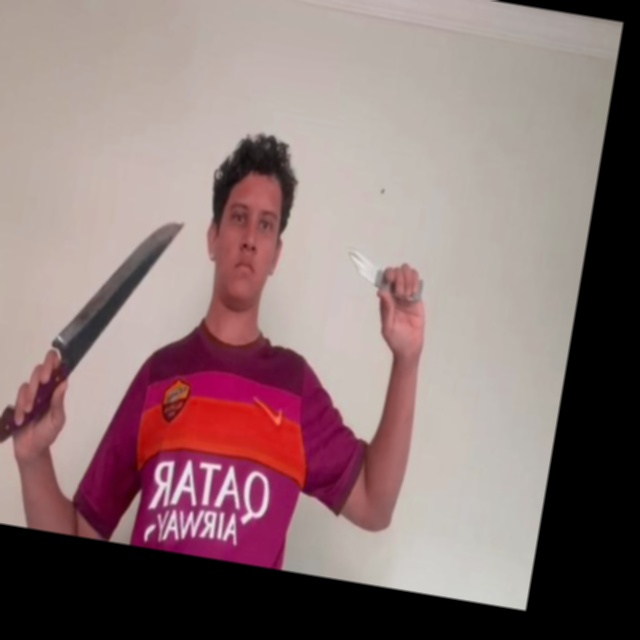Sharp-Object: (54, 204, 184, 361), (340, 245, 383, 284)
